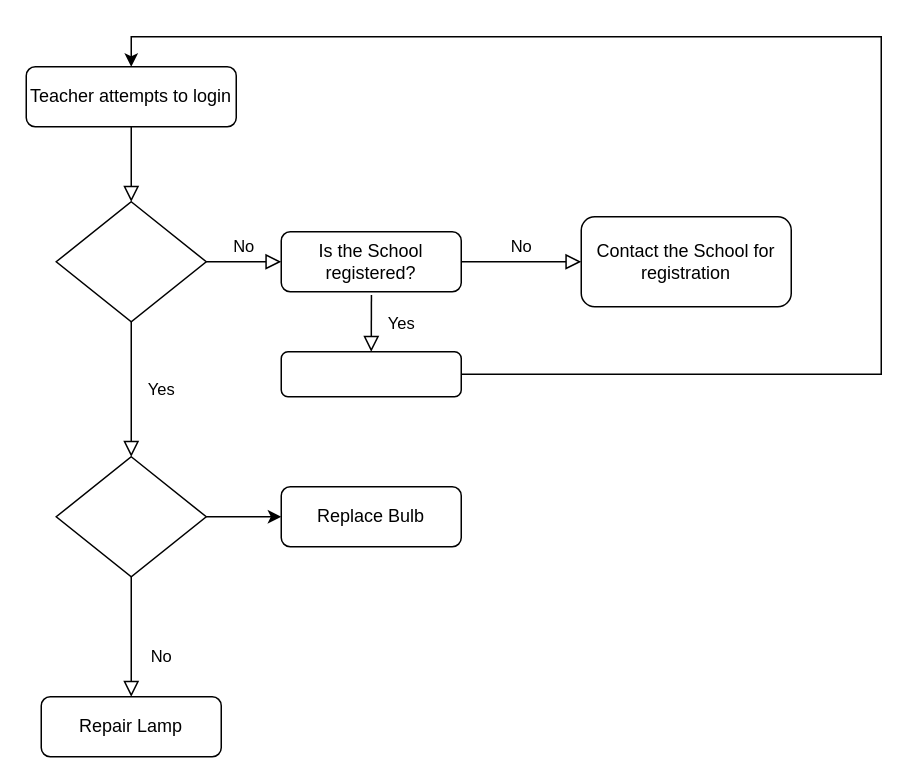
Image size: 920x783. Some labels were removed from this diagram. The centre of each missing label's shape, as x and y in pixels:
Bulb burned out?: (130,516)
Create teacher's login: (370,373)
Is the teacher registered: (130,261)
